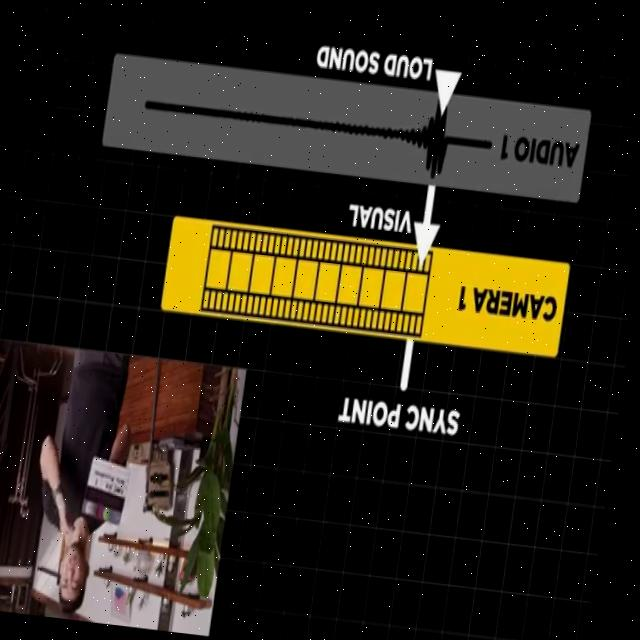Clapperboard: (82, 457, 132, 525)
